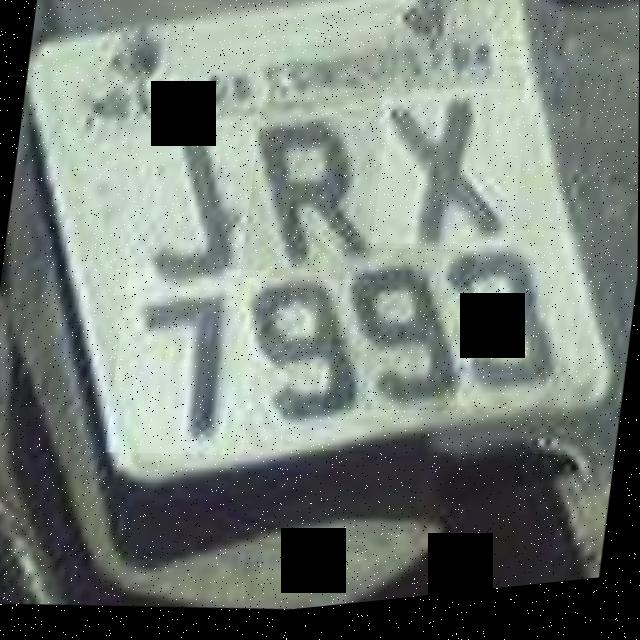3: (418, 227, 592, 433)
7: (106, 259, 268, 472)
9: (217, 246, 386, 449), (322, 244, 477, 431)
J: (113, 107, 260, 313)
R: (240, 96, 389, 298)
X: (363, 83, 530, 269)
